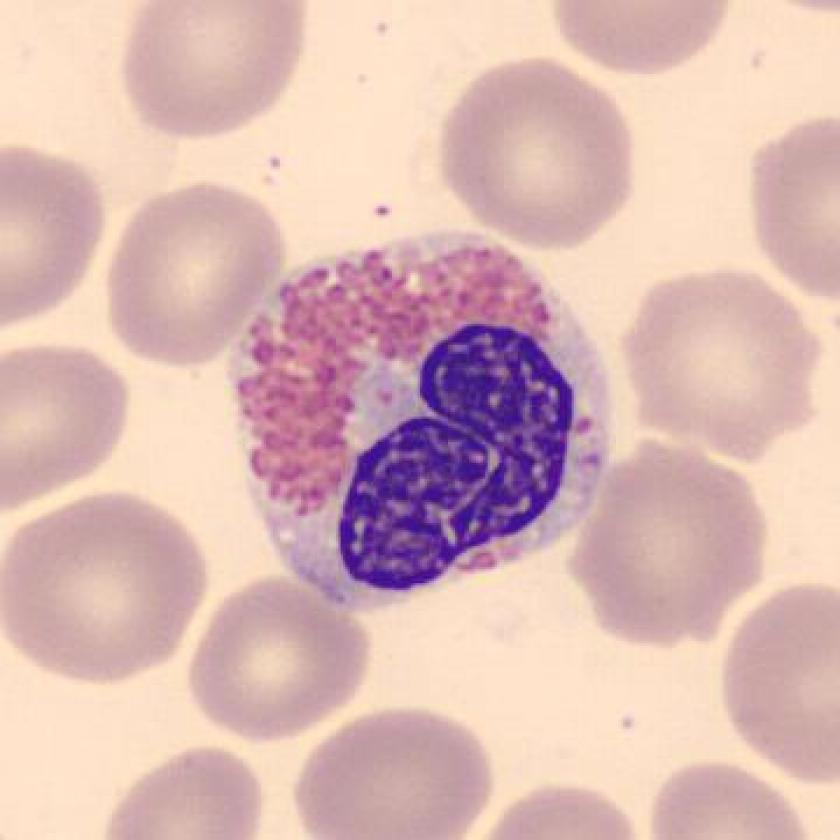eosinophil: (218, 212, 629, 633)
